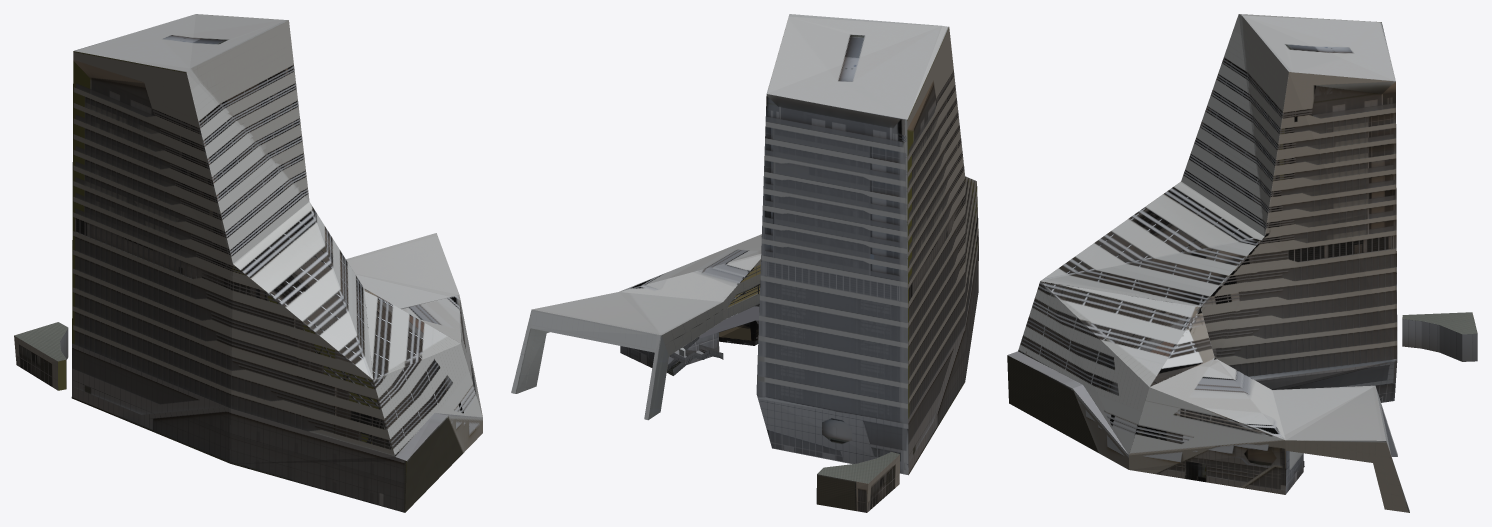
File: 501_BAKED_FINAL.glb
The picture shows the model from 3 angles, left to right: view 1: azimuth 30°, elevation 25°; view 2: azimuth 150°, elevation 25°; view 3: azimuth 270°, elevation 25°; orthographic projection. The views are drawn at different scales.
Parts seen in each view (by area): view 1: Plane.001; view 2: Plane.001; view 3: Plane.001.
Part boxes in pixels (x1,y1,x2,y2): Plane.001: [14, 14, 482, 512]; Plane.001: [511, 14, 978, 512]; Plane.001: [1007, 14, 1477, 512].
Size of the model in its own units: 89.25 by 83.73 by 102.
Materials: 1 (1 with a texture image).
